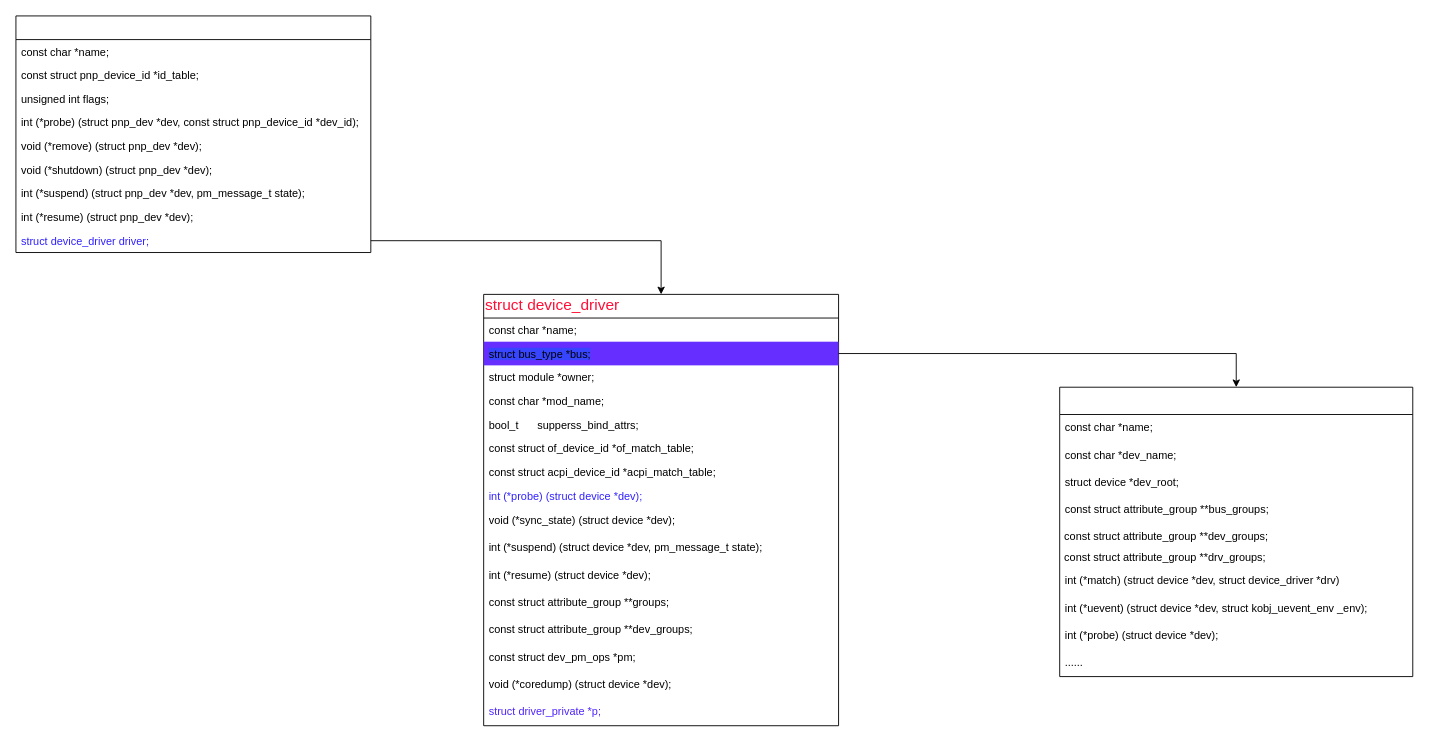
This 1429x742 diagram has some shape labels left out. The shapes that lost their labels are listed below. From the top down, each one's box as (x1, y1, x2, y2) in pixels, then its label:
(15, 15, 371, 253): struct pnp_driver
(1059, 386, 1413, 677): //The bus type of the device struct bus_type
